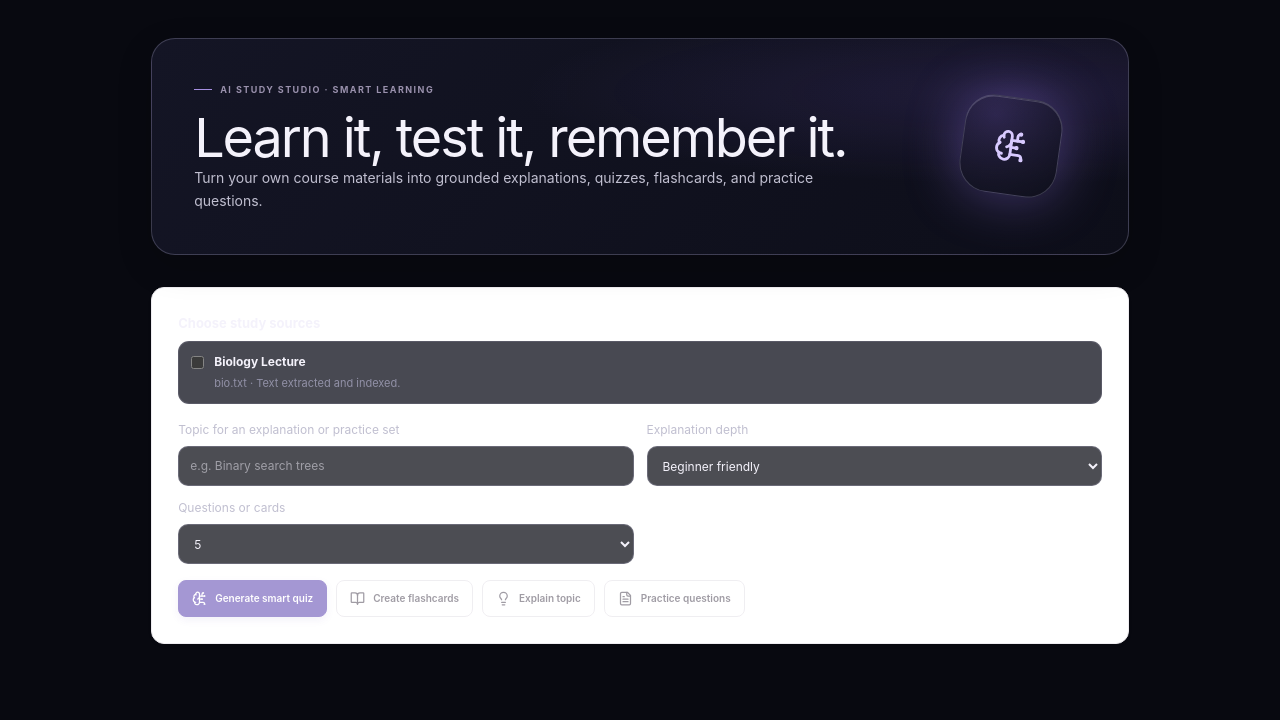
Test: AI Study Studio interactions › flips, advances, and marks flashcards for review
Click the checkbox labelled "Biology Lecture" at (198, 363), box [191,356,204,369]
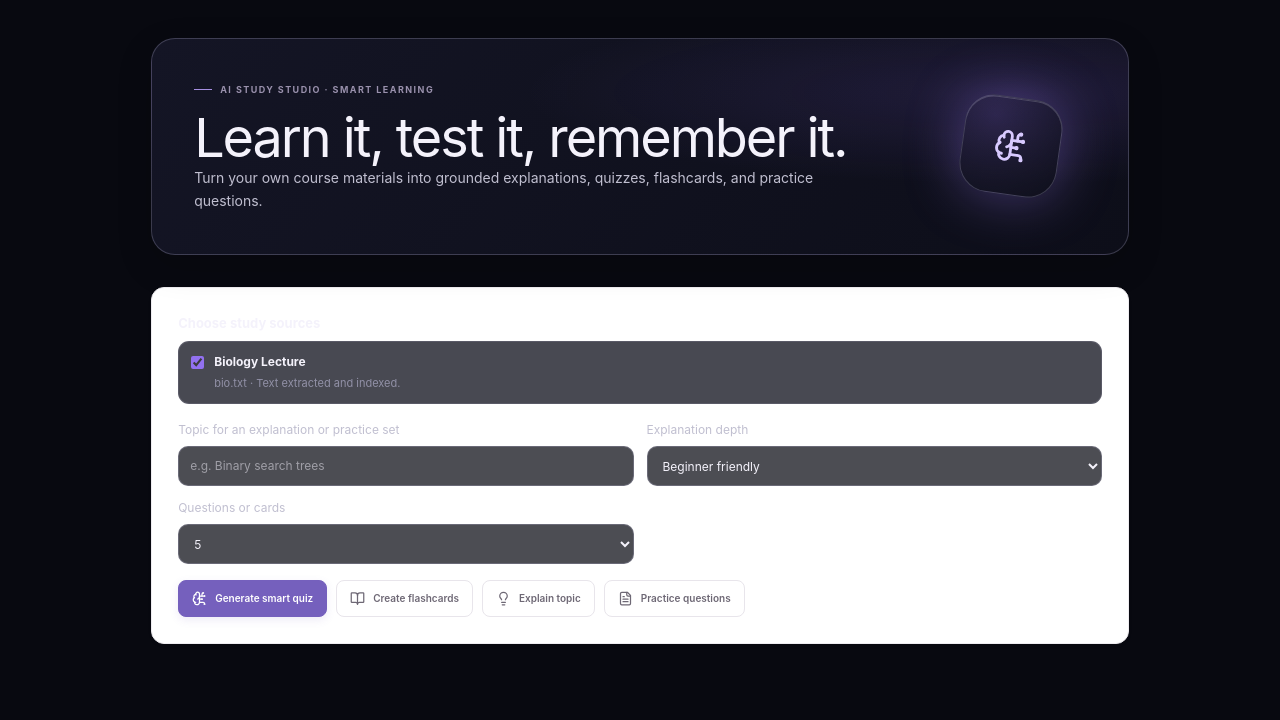
Click the button "Create flashcards" at (405, 599), box [336,580,473,617]
(page scrolled)
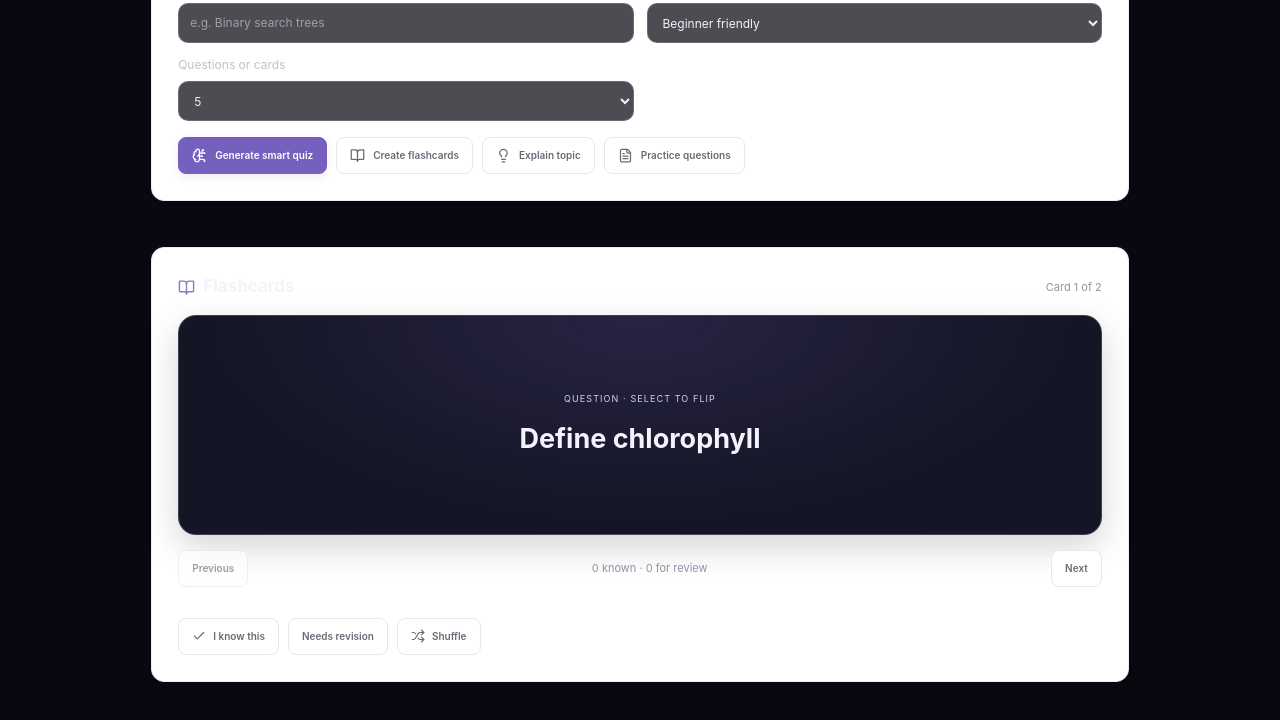
Click the button with aria-label "Reveal answer" at (640, 425), box [178,315,1102,535]
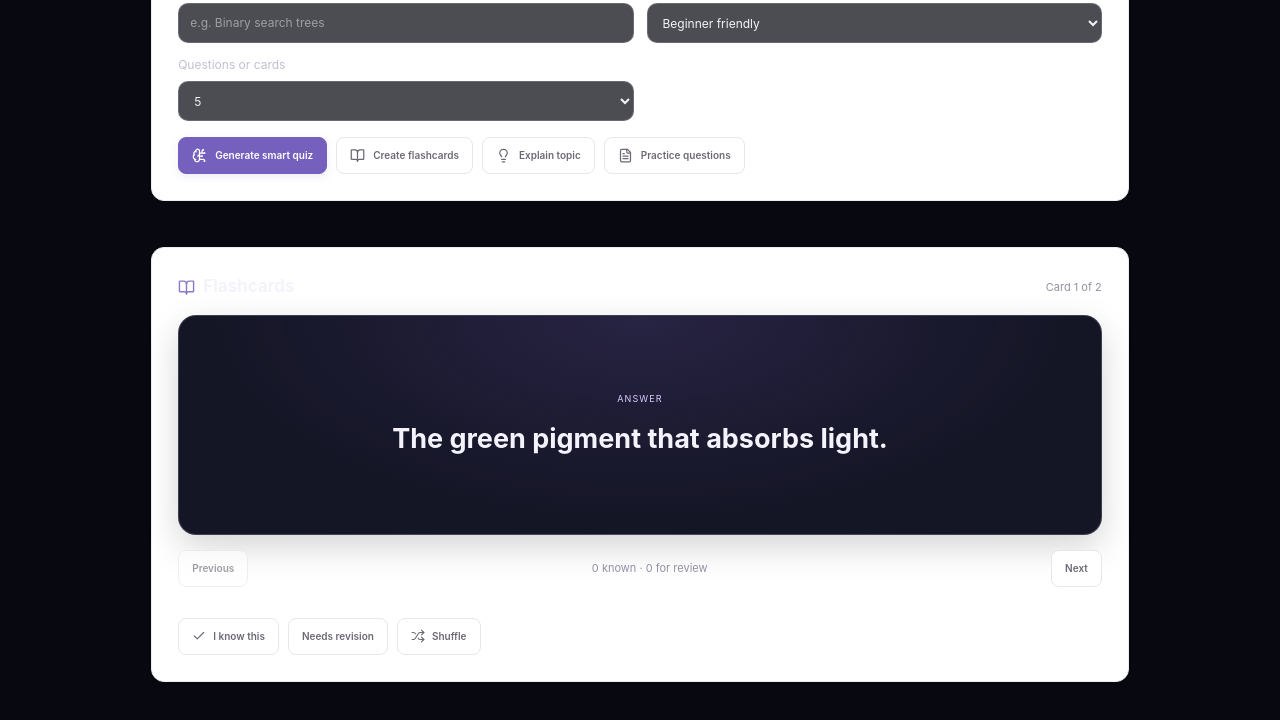
Expected: the text "The green pigment that absorbs light." is shown, [392,420,888,458]
Click the button "Needs revision" at (338, 636), box [288,618,388,655]
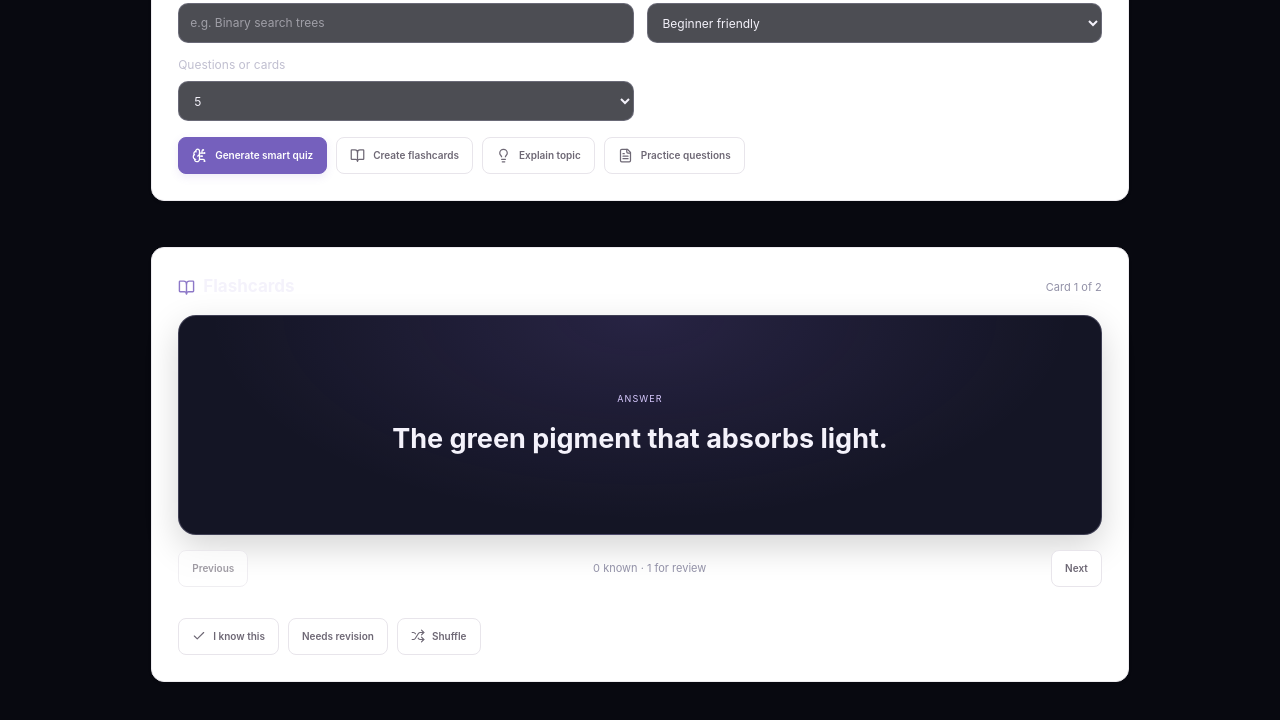
Click the button "Next" at (1076, 568), box [1051,550,1102,587]
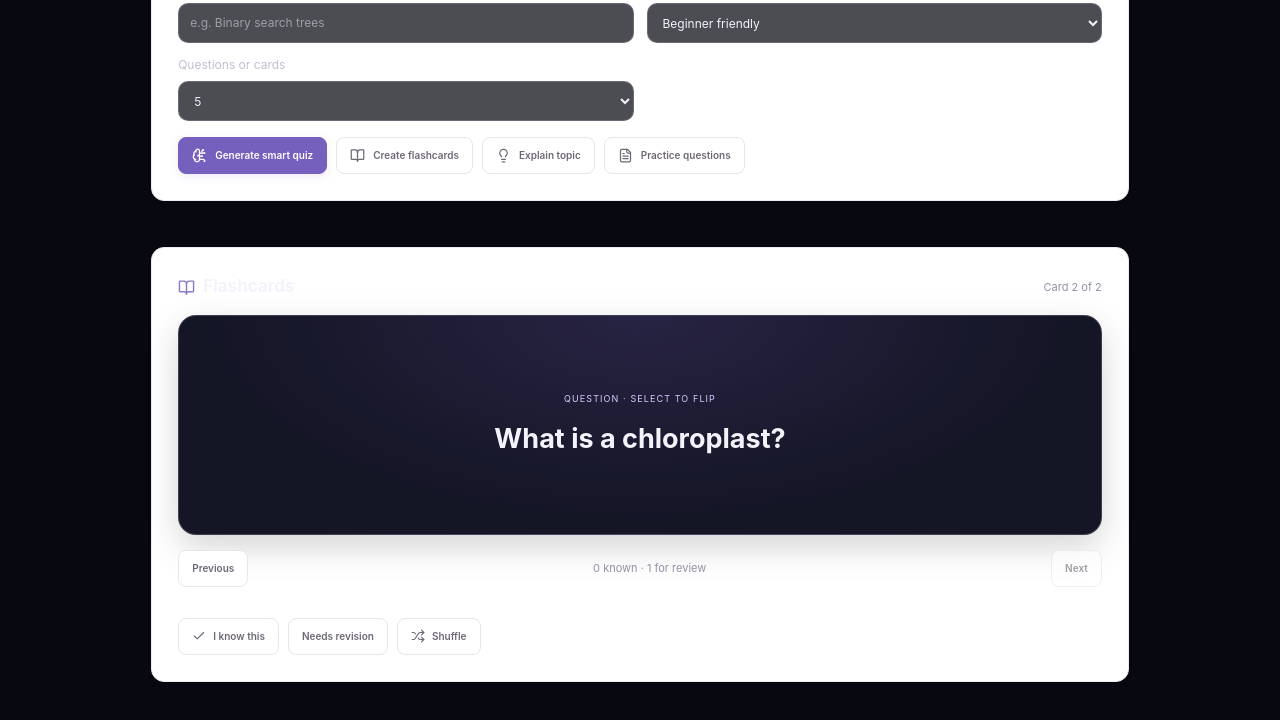
Expected: the text "Card 2 of 2" is shown, [1044,279,1102,295]
Expected: the text "What is a chloroplast?" is shown, [494,420,786,458]
